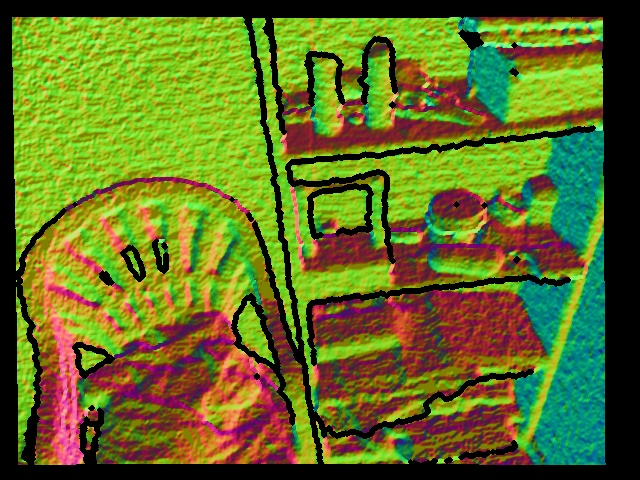station: (294, 172, 391, 300)
